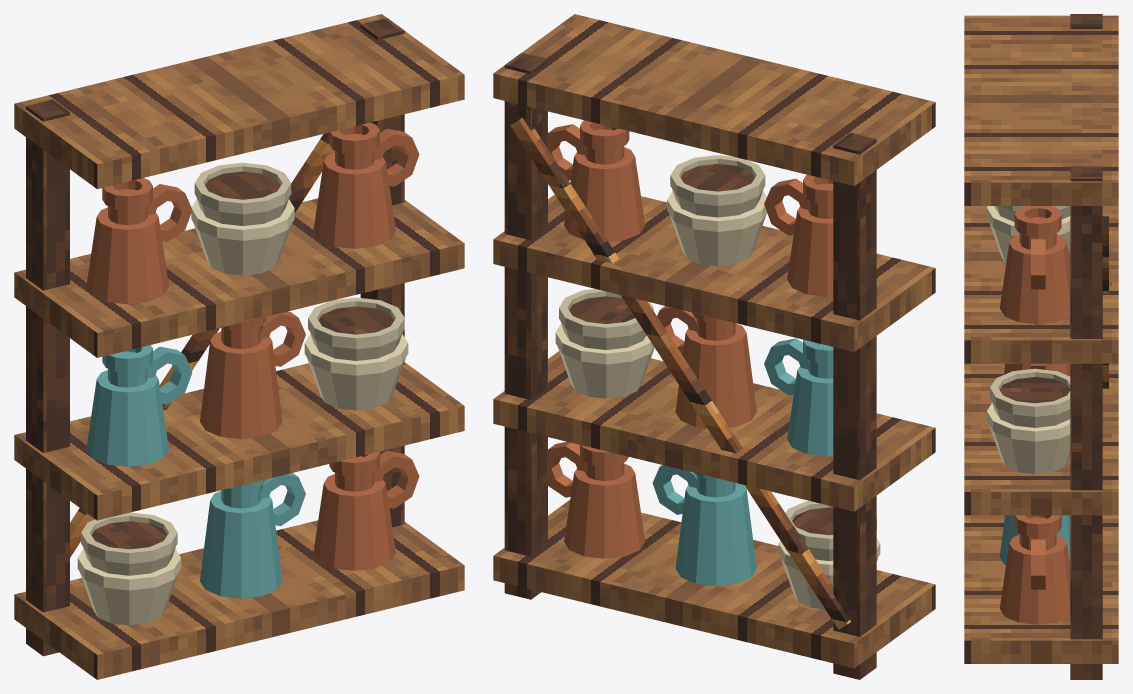
3 renders of one model, left to right at view 1: azimuth 30°, elevation 25°; view 2: azimuth 150°, elevation 25°; view 3: azimuth 270°, elevation 25°, orthographic. The views are drawn at different scales.
Parts seen in each view (by area): view 1: body_oak_light, body_clay, body_wood_dark, body_glass_teal, body_cream, body_linen, body_wood; view 2: body_oak_light, body_wood_dark, body_clay, body_glass_teal, body_cream, body_wood, body_linen; view 3: body_oak_light, body_wood_dark, body_clay, body_cream, body_linen, body_glass_teal, body_wood.
Boxes of the visible parts, bbox=[...] form: body_oak_light: bbox=[14, 14, 464, 679]; body_clay: bbox=[86, 122, 419, 570]; body_wood_dark: bbox=[26, 18, 404, 656]; body_glass_teal: bbox=[86, 345, 305, 598]; body_cream: bbox=[77, 199, 408, 625]; body_linen: bbox=[81, 162, 404, 575]; body_wood: bbox=[70, 132, 334, 557]; body_oak_light: bbox=[493, 14, 935, 668]; body_wood_dark: bbox=[504, 52, 876, 679]; body_clay: bbox=[548, 120, 833, 558]; body_glass_teal: bbox=[652, 338, 833, 585]; body_cream: bbox=[555, 191, 880, 609]; body_wood: bbox=[510, 118, 850, 629]; body_linen: bbox=[559, 155, 876, 560]; body_oak_light: bbox=[964, 15, 1118, 663]; body_wood_dark: bbox=[1000, 14, 1102, 679]; body_clay: bbox=[999, 206, 1070, 624]; body_cream: bbox=[986, 206, 1070, 473]; body_linen: bbox=[990, 206, 1070, 427]; body_glass_teal: bbox=[999, 363, 1070, 565]; body_wood: bbox=[1102, 216, 1108, 388].
Bounding box in the file's own units: 1.23 × 1.72 × 0.48.
7 materials, 3 textured.
